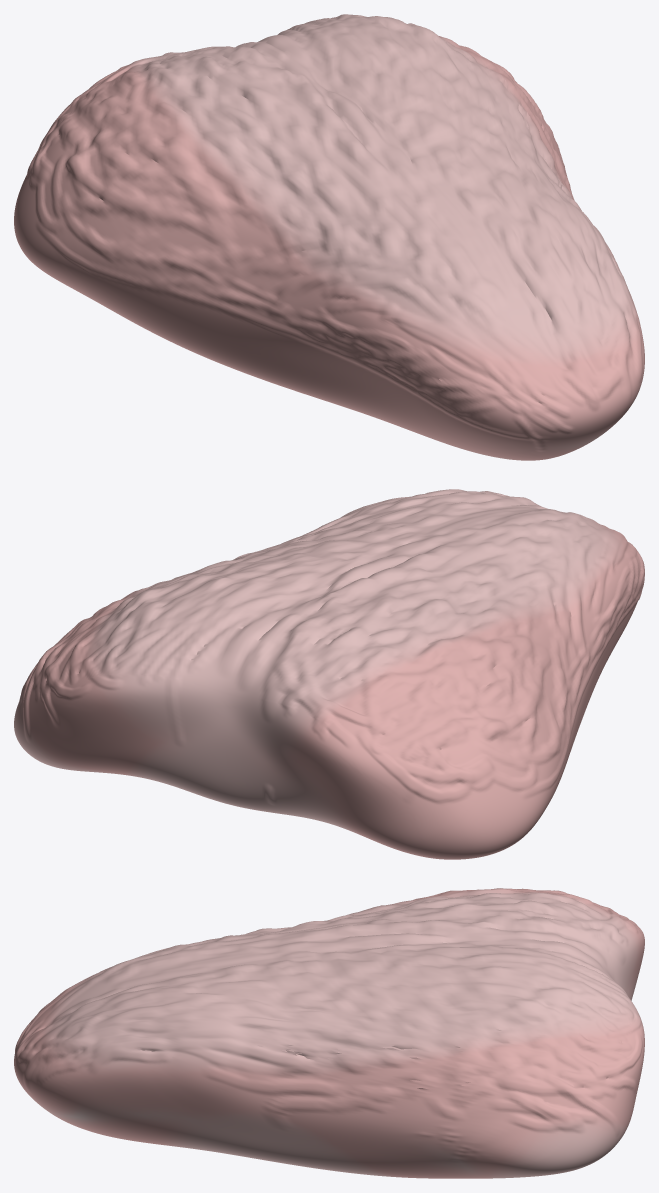
Rendered from tongue.glb.
3 views of the same model, one above another, from view 1: azimuth 30°, elevation 25°; view 2: azimuth 150°, elevation 25°; view 3: azimuth 270°, elevation 25° (orthographic). The views are drawn at different scales.
Visible parts, largest first — view 1: Geode; view 2: Geode; view 3: Geode.
Boxes of the visible parts, box(x1,y1,x2,y2) form: Geode: box(14, 14, 644, 460); Geode: box(14, 489, 644, 859); Geode: box(14, 888, 644, 1178).
Size of the model in its own units: 73.32 by 32.12 by 94.08.
